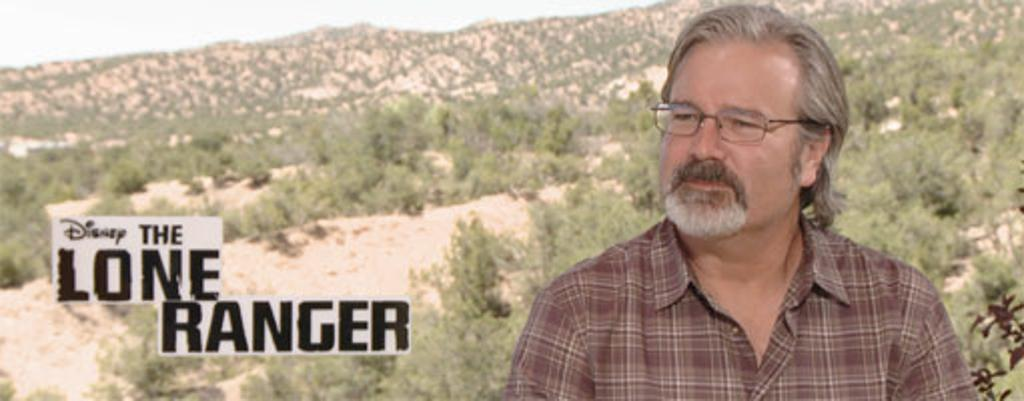face: (664, 34, 802, 230)
